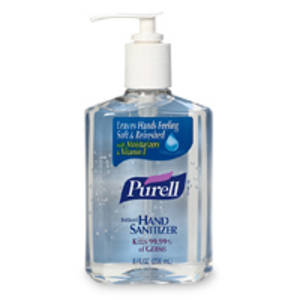Sanitizer: (80, 9, 220, 290)
